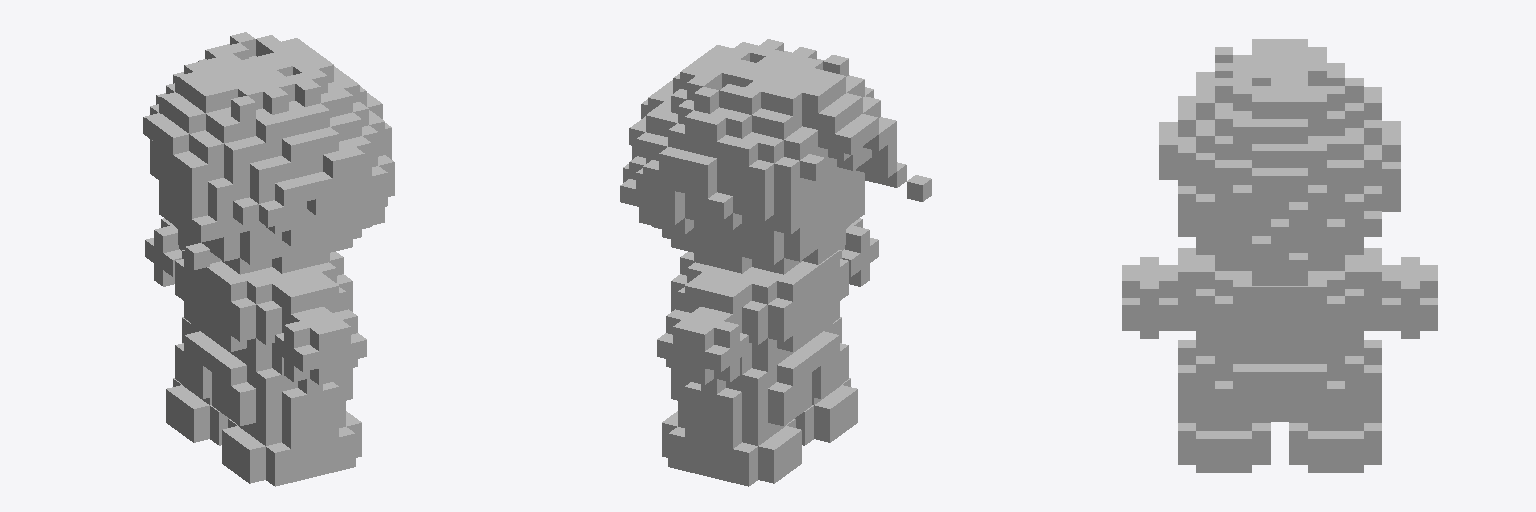
File: Intento1.obj
3 views of the same model, side by side, from view 1: azimuth 30°, elevation 25°; view 2: azimuth 150°, elevation 25°; view 3: azimuth 270°, elevation 25° (orthographic).
Parts seen in each view (by area): view 1: object 1; view 2: object 1; view 3: object 1.
Part boxes in pixels (bbox=[...]): object 1: bbox=[143, 32, 394, 486]; object 1: bbox=[620, 39, 931, 486]; object 1: bbox=[1122, 39, 1437, 472].
Size of the model in its own units: 1.4 by 2.2 by 1.7.